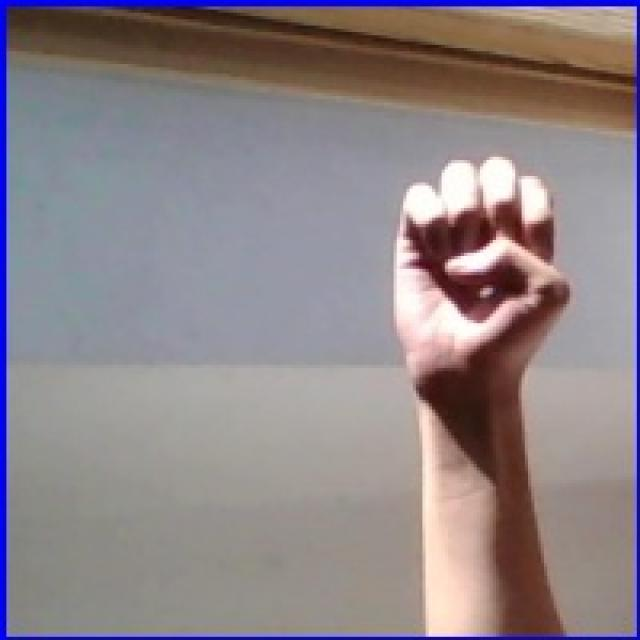Letra E: (376, 127, 586, 431)
